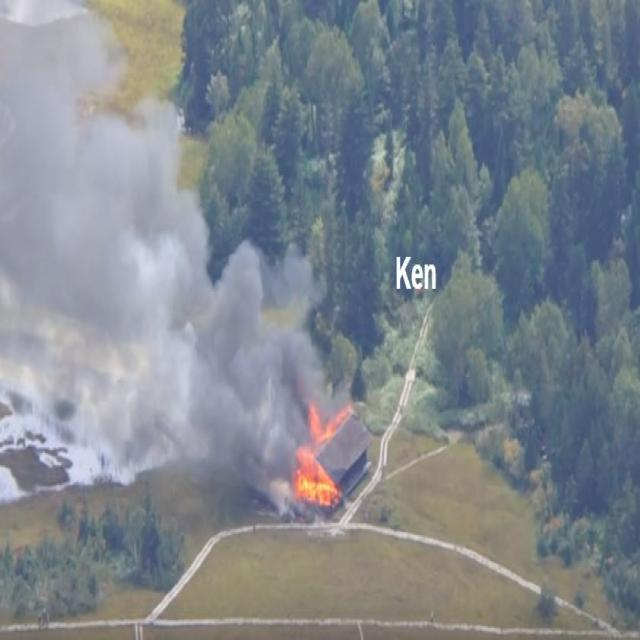Fire: (296, 446, 338, 504), (306, 398, 352, 443)
Smoke: (119, 227, 194, 330), (187, 356, 240, 464), (282, 242, 328, 310), (278, 339, 311, 422), (134, 86, 182, 131), (256, 372, 276, 442), (104, 56, 130, 104), (136, 438, 167, 472), (106, 456, 136, 486), (263, 422, 280, 462)
